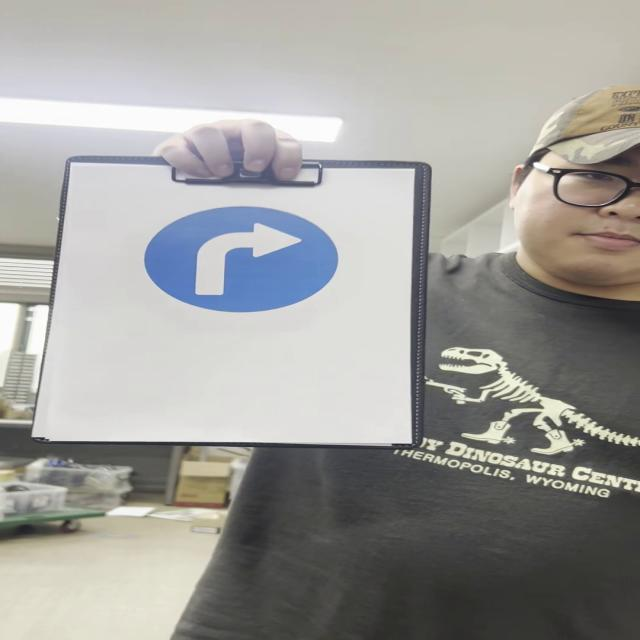right: (145, 205, 350, 313)
